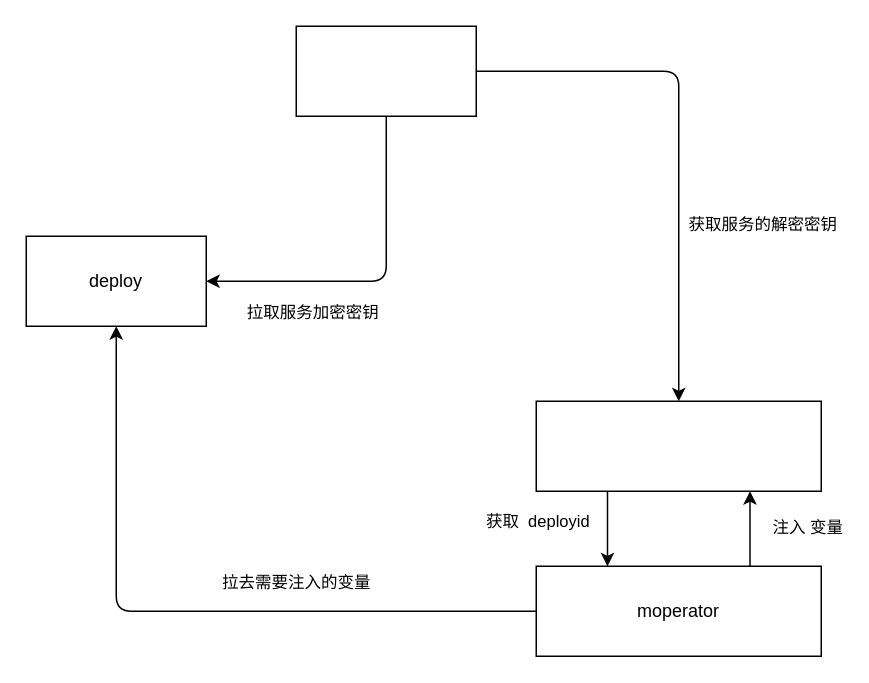
Some shapes in this 869 by 683 pixel diagram are drawn without their labels. The centre of each missing label's shape, as x and y in pixels:
mcenter: (x=385, y=70)
pod: (x=678, y=445)
